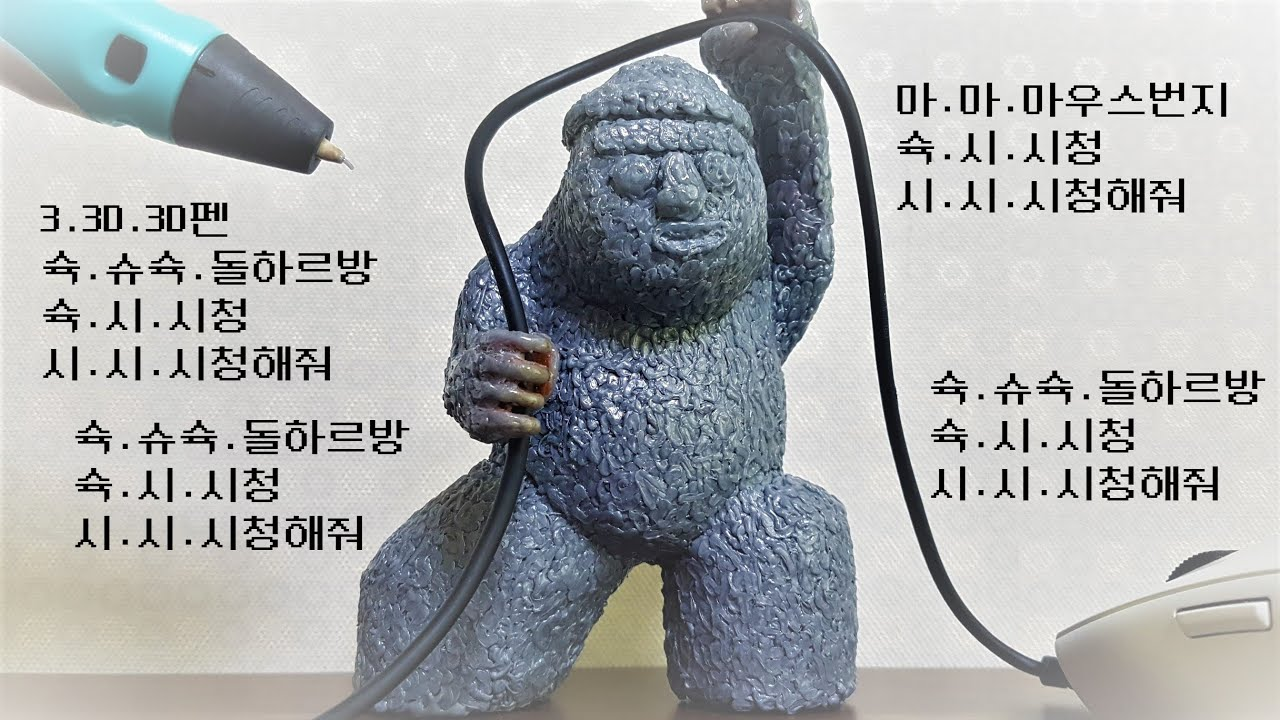Stone Statue: (358, 2, 918, 720)
